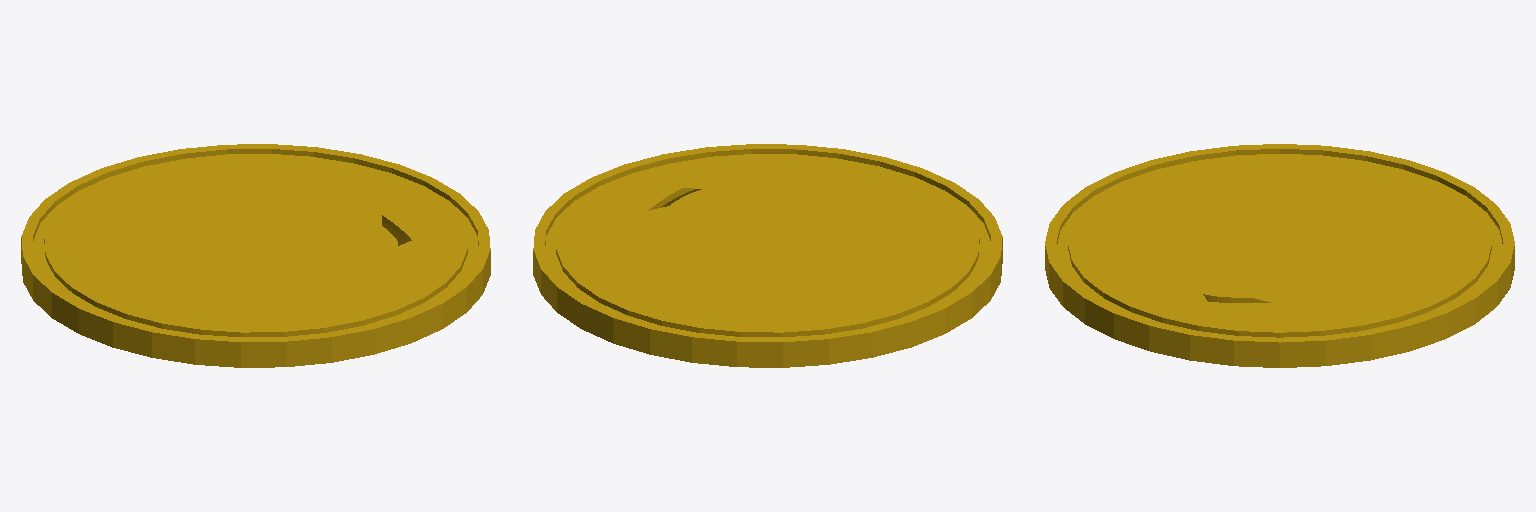
The model's file is WEU.obj.
3 renders of one model, left to right at view 1: azimuth 30°, elevation 25°; view 2: azimuth 150°, elevation 25°; view 3: azimuth 270°, elevation 25°, orthographic.
Parts seen in each view (by area): view 1: Circle; view 2: Circle; view 3: Circle.
Boxes of the visible parts, x1=… form: Circle: x1=21, y1=144, x2=490, y2=367; Circle: x1=533, y1=144, x2=1002, y2=367; Circle: x1=1045, y1=144, x2=1514, y2=367.
Size of the model in its own units: 1.38 by 0.083 by 1.38.